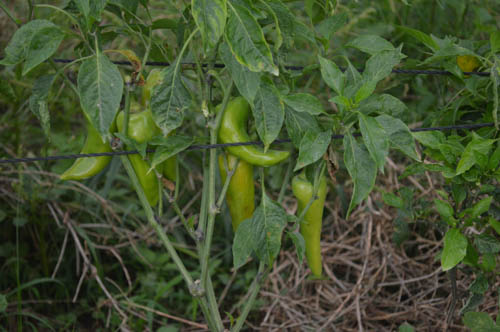ChiliPepper: (207, 94, 292, 172), (134, 64, 187, 180), (52, 101, 117, 188), (117, 103, 169, 211), (286, 172, 332, 282), (212, 149, 264, 244)
